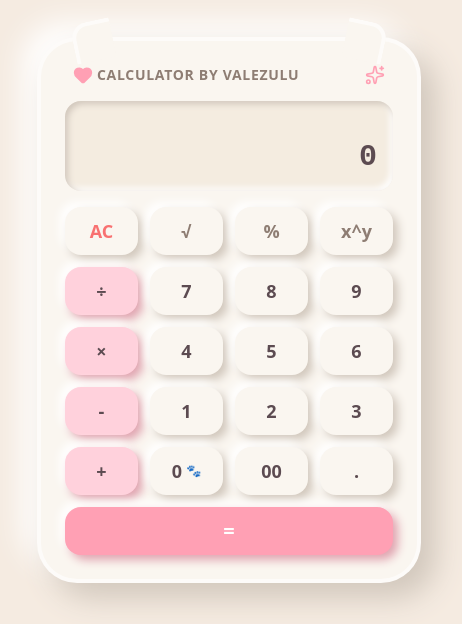
it: Calculator Frontend UI & Basic Interaction › updates display when digit buttons are clicked
The image size is (462, 624).
Click the button "7".
click(186, 291)  # box [150,267,223,315]
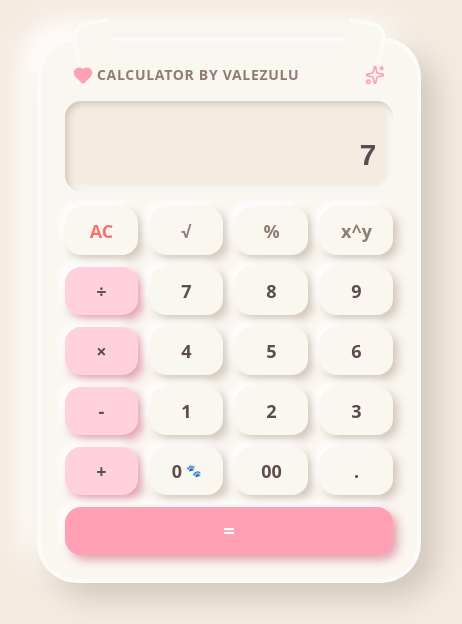
Click the button "8".
click(272, 291)  # box [235,267,308,315]
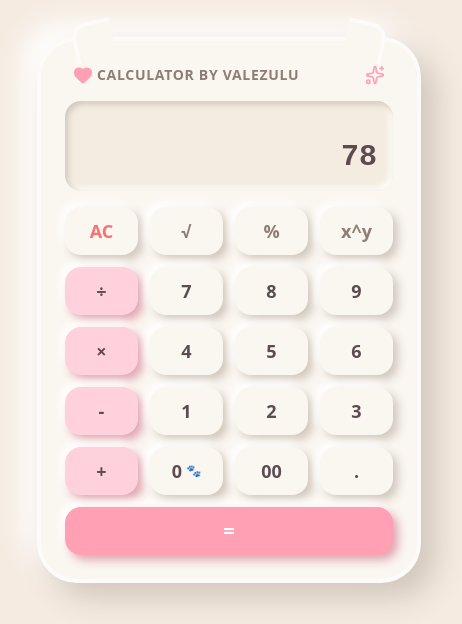
Expected: the text "78" is shown, [341,140,377,174]
